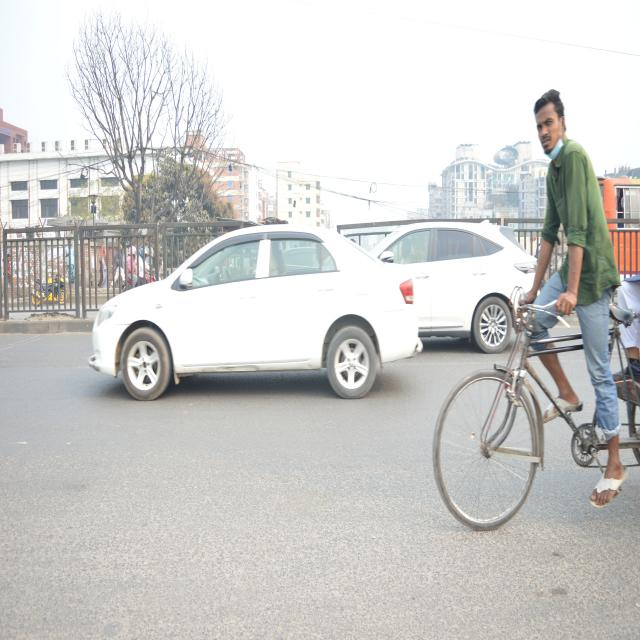car: (83, 215, 421, 416), (377, 209, 549, 350)
motorbike: (27, 271, 70, 315)
